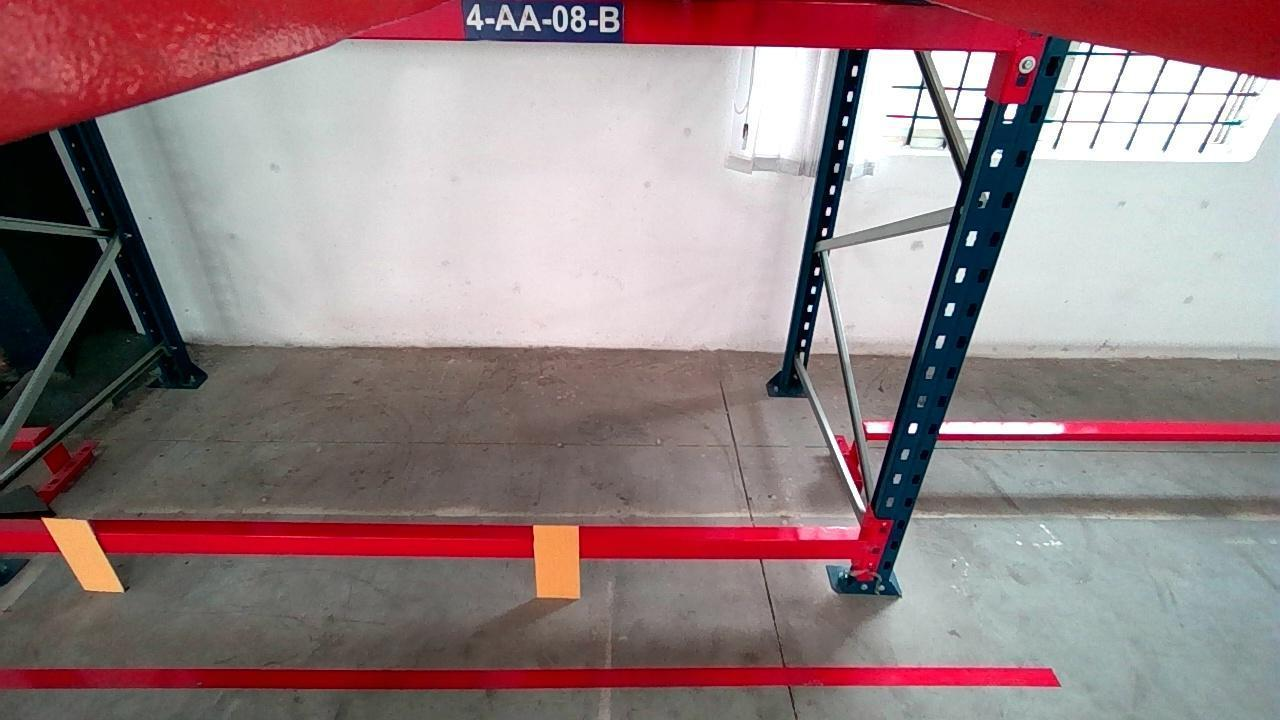h_rack: (0, 530, 876, 561)
orange_strip: (42, 520, 127, 595), (534, 524, 580, 601)
red_line: (0, 668, 1059, 690)
